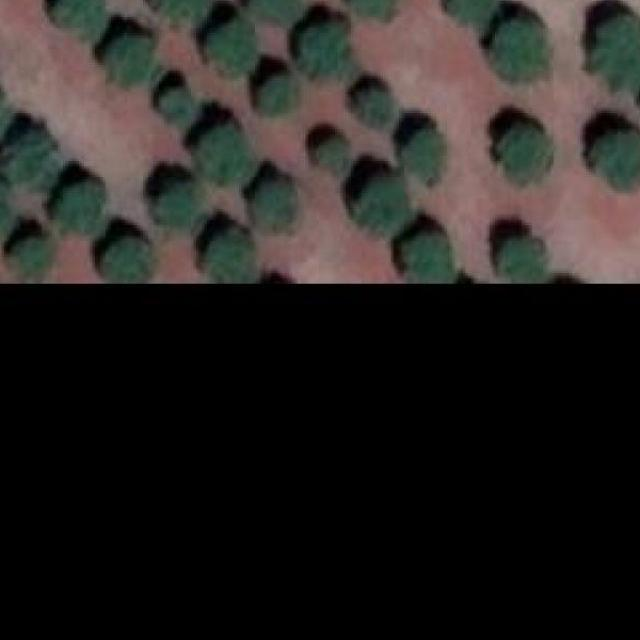Tree: (340, 166, 410, 241), (580, 12, 640, 95), (493, 19, 560, 81), (185, 119, 248, 182), (296, 17, 360, 76), (503, 118, 557, 186), (95, 230, 162, 282), (242, 175, 301, 234), (388, 127, 450, 183), (202, 17, 255, 76), (100, 33, 159, 86), (2, 127, 61, 180), (587, 132, 640, 190), (54, 177, 106, 236), (143, 177, 199, 230), (207, 220, 258, 276), (399, 228, 450, 282), (498, 233, 546, 280), (258, 74, 304, 122), (46, 0, 103, 38), (445, 0, 498, 33), (10, 234, 56, 271), (154, 86, 194, 127), (154, 0, 212, 26), (349, 90, 391, 122), (314, 134, 348, 172), (0, 175, 15, 231), (248, 0, 296, 17), (346, 0, 399, 15), (0, 86, 10, 145), (633, 79, 640, 146)
